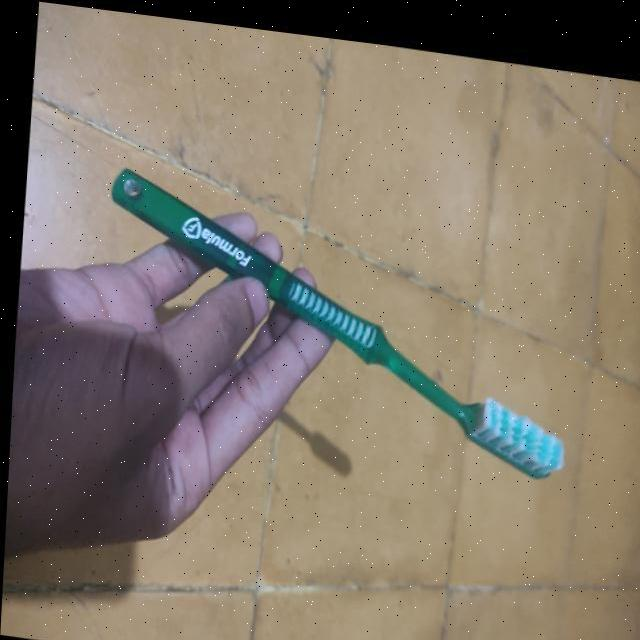toothbrush: (73, 124, 591, 506)
